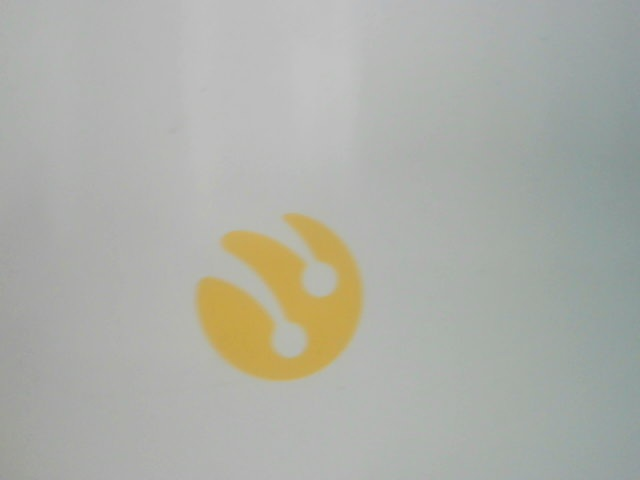AV_H3600Yellow: (179, 210, 377, 383)
